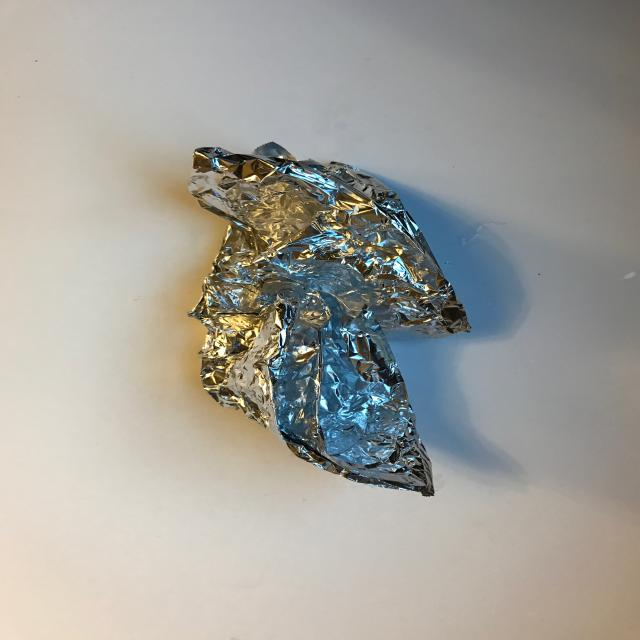metal: (186, 141, 472, 496)
